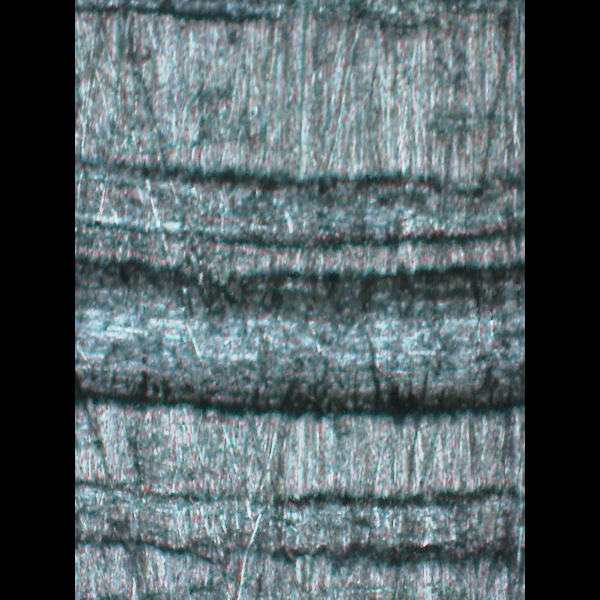d: (75, 160, 523, 424), (75, 473, 522, 589)
